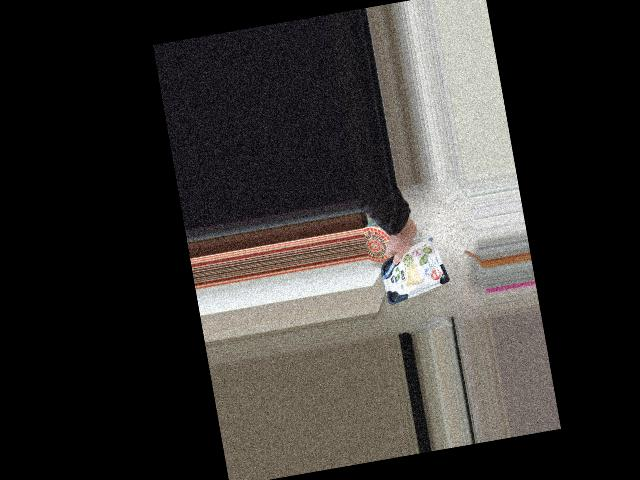cheese: (373, 241, 451, 301)
